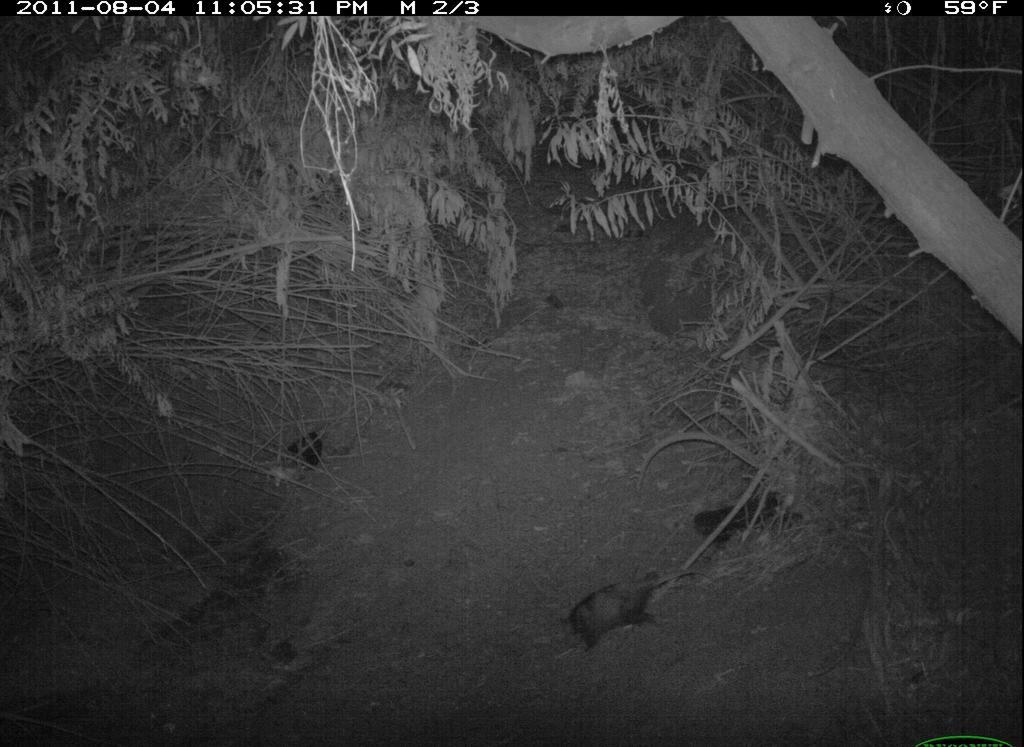opossum: (547, 566, 705, 648)
